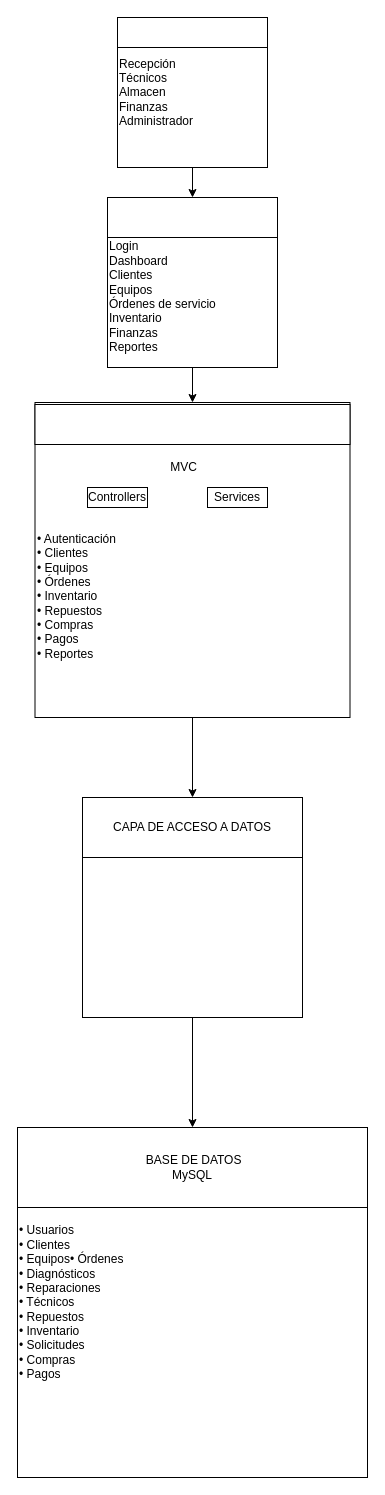
The diagram is 385 pixels wide and 1495 high, and some of its shapes have lost their labels. Here are the shapes that lost their labels. From the top down, the box of each, then its label:
(116, 16, 268, 48): Usuarios
(106, 196, 278, 238): Capa presentacion INTERFAZ WEB
(34, 404, 350, 444): CAPA DE LÓGICA DE NEGOCIO
(82, 796, 302, 1018): • Modelos • Consultas a BD • Validación de datos
